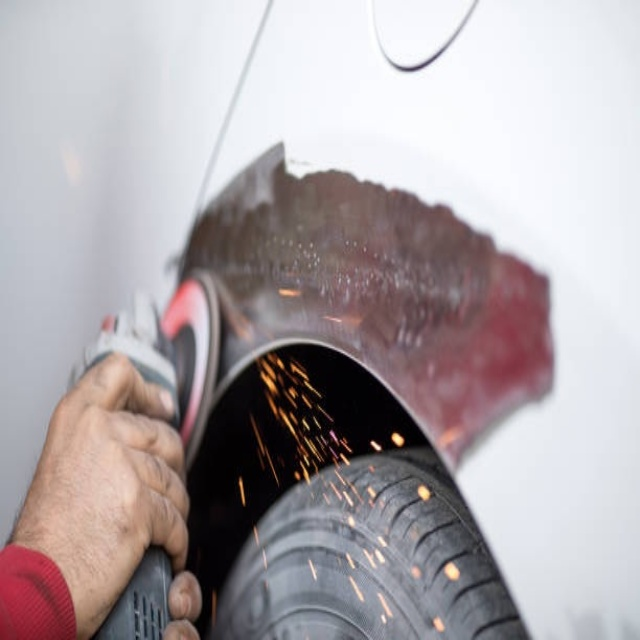Sin_guantes: (4, 343, 199, 640)
